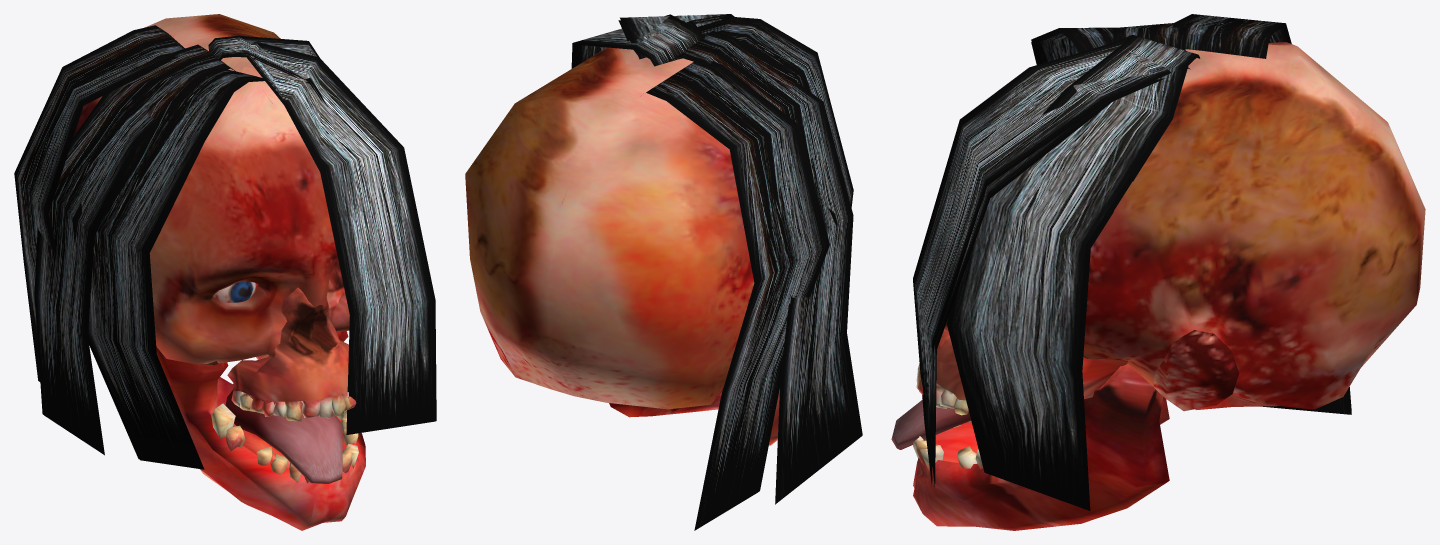
Rendered from female_head_noneck-01.fbx.
3 views of the same model, side by side, from view 1: azimuth 30°, elevation 25°; view 2: azimuth 150°, elevation 25°; view 3: azimuth 270°, elevation 25° (orthographic). The views are drawn at different scales.
Visible parts, largest first — view 1: fm_head2; view 2: fm_head2; view 3: fm_head2.
Part boxes in pixels (<box>): fm_head2: <box>14,14,436,530</box>; fm_head2: <box>465,14,862,530</box>; fm_head2: <box>891,14,1425,530</box>.
Size of the model in its own units: 0.214 by 0.2715 by 0.2769.
